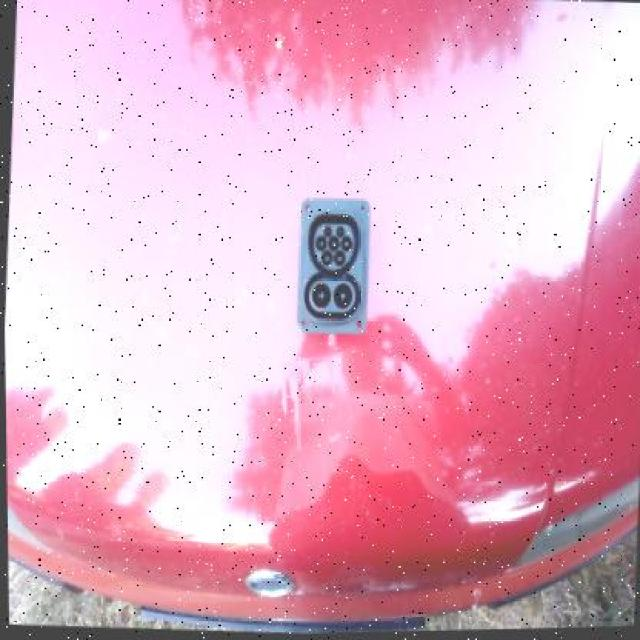CCS2: (272, 196, 390, 348)
